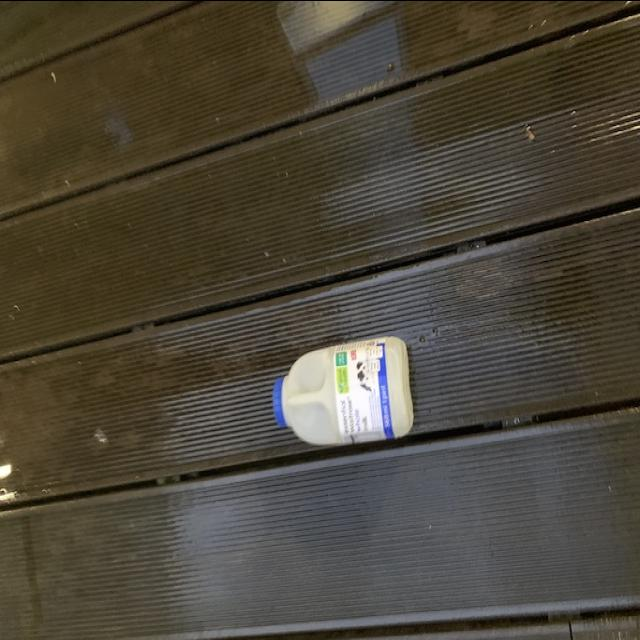litter: (270, 330, 412, 444)
